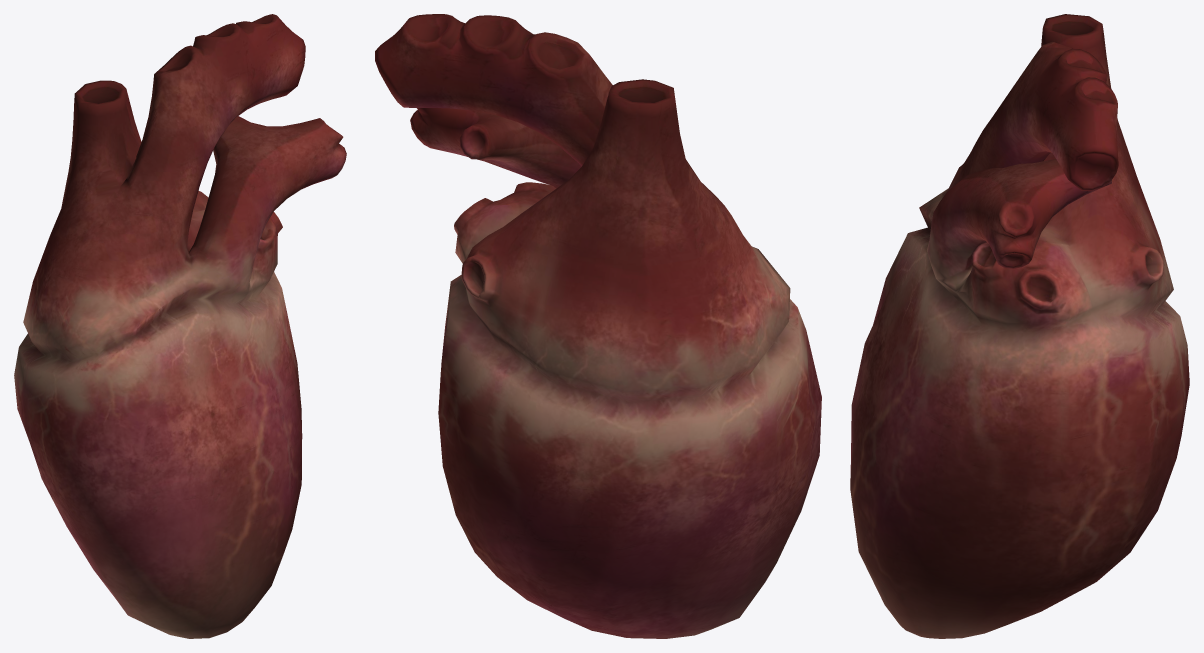
3 views of the same model, side by side, from view 1: azimuth 30°, elevation 25°; view 2: azimuth 150°, elevation 25°; view 3: azimuth 270°, elevation 25° (orthographic). The views are drawn at different scales.
Visible parts, largest first — view 1: heart_2; view 2: heart_2; view 3: heart_2.
Boxes of the visible parts, left/top/right/bottom form: heart_2: left=14, top=14, right=346, bottom=638; heart_2: left=375, top=14, right=821, bottom=638; heart_2: left=850, top=14, right=1189, bottom=638.
Bounding box in the file's own units: 168 × 275 × 137.
Materials: 1 (1 with a texture image).
